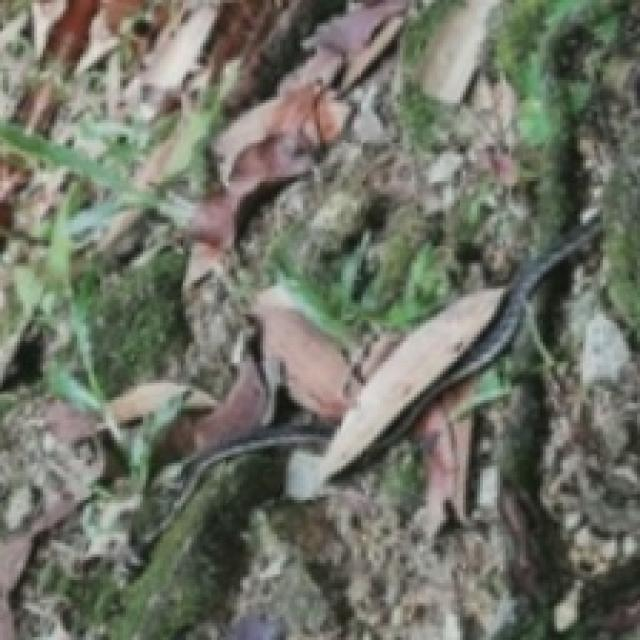king cobra: (286, 211, 597, 497)
